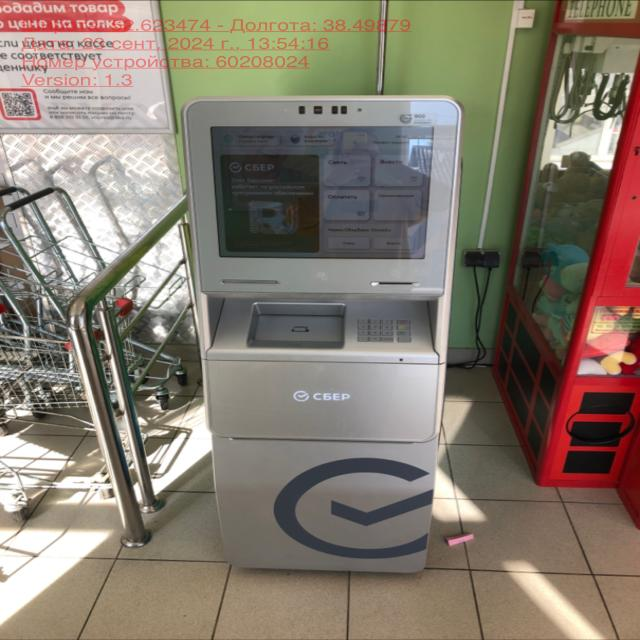bank: (176, 96, 458, 578)
